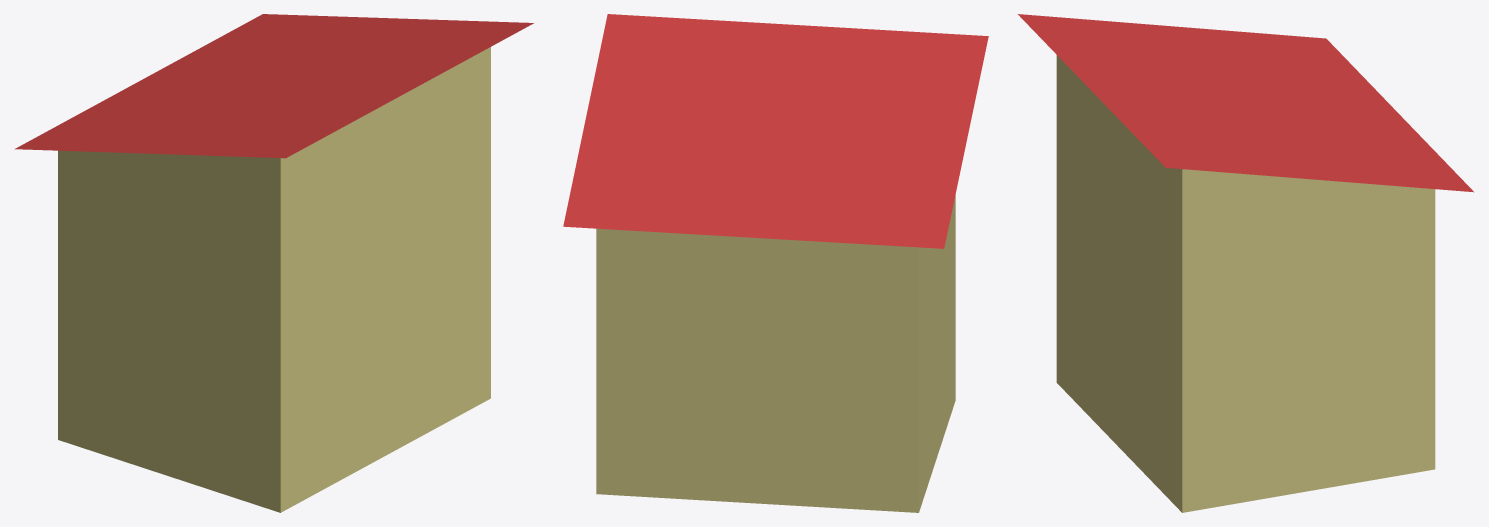
The picture shows the model from 3 angles, left to right: view 1: azimuth 30°, elevation 25°; view 2: azimuth 150°, elevation 25°; view 3: azimuth 270°, elevation 25°; orthographic projection. The views are drawn at different scales.
Bounding box in the file's own units: 8.13 × 7.59 × 6.63.
